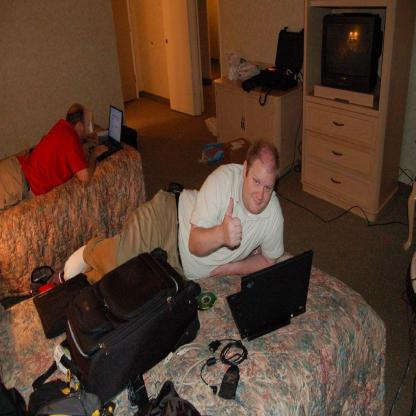board: (226, 249, 314, 342), (90, 105, 124, 161)
